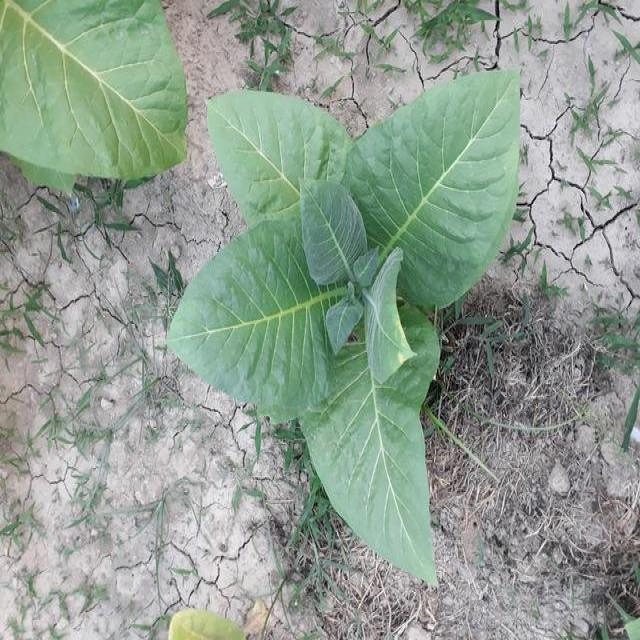crop: (192, 73, 516, 570)
